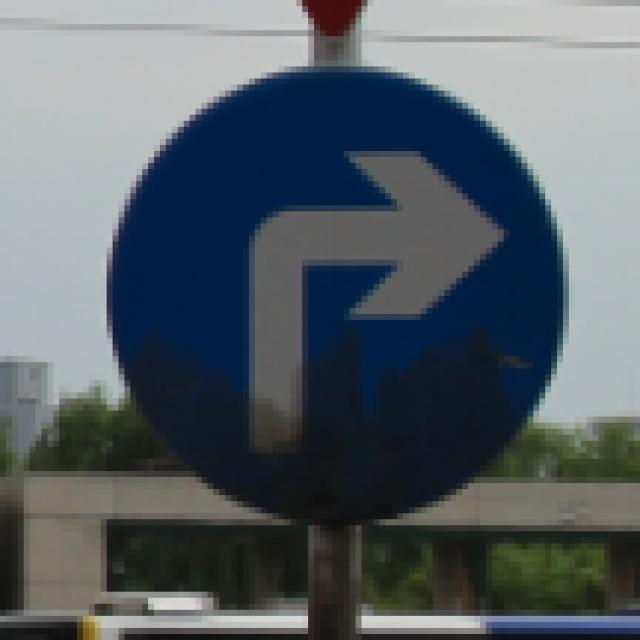Right: (109, 59, 562, 523)
